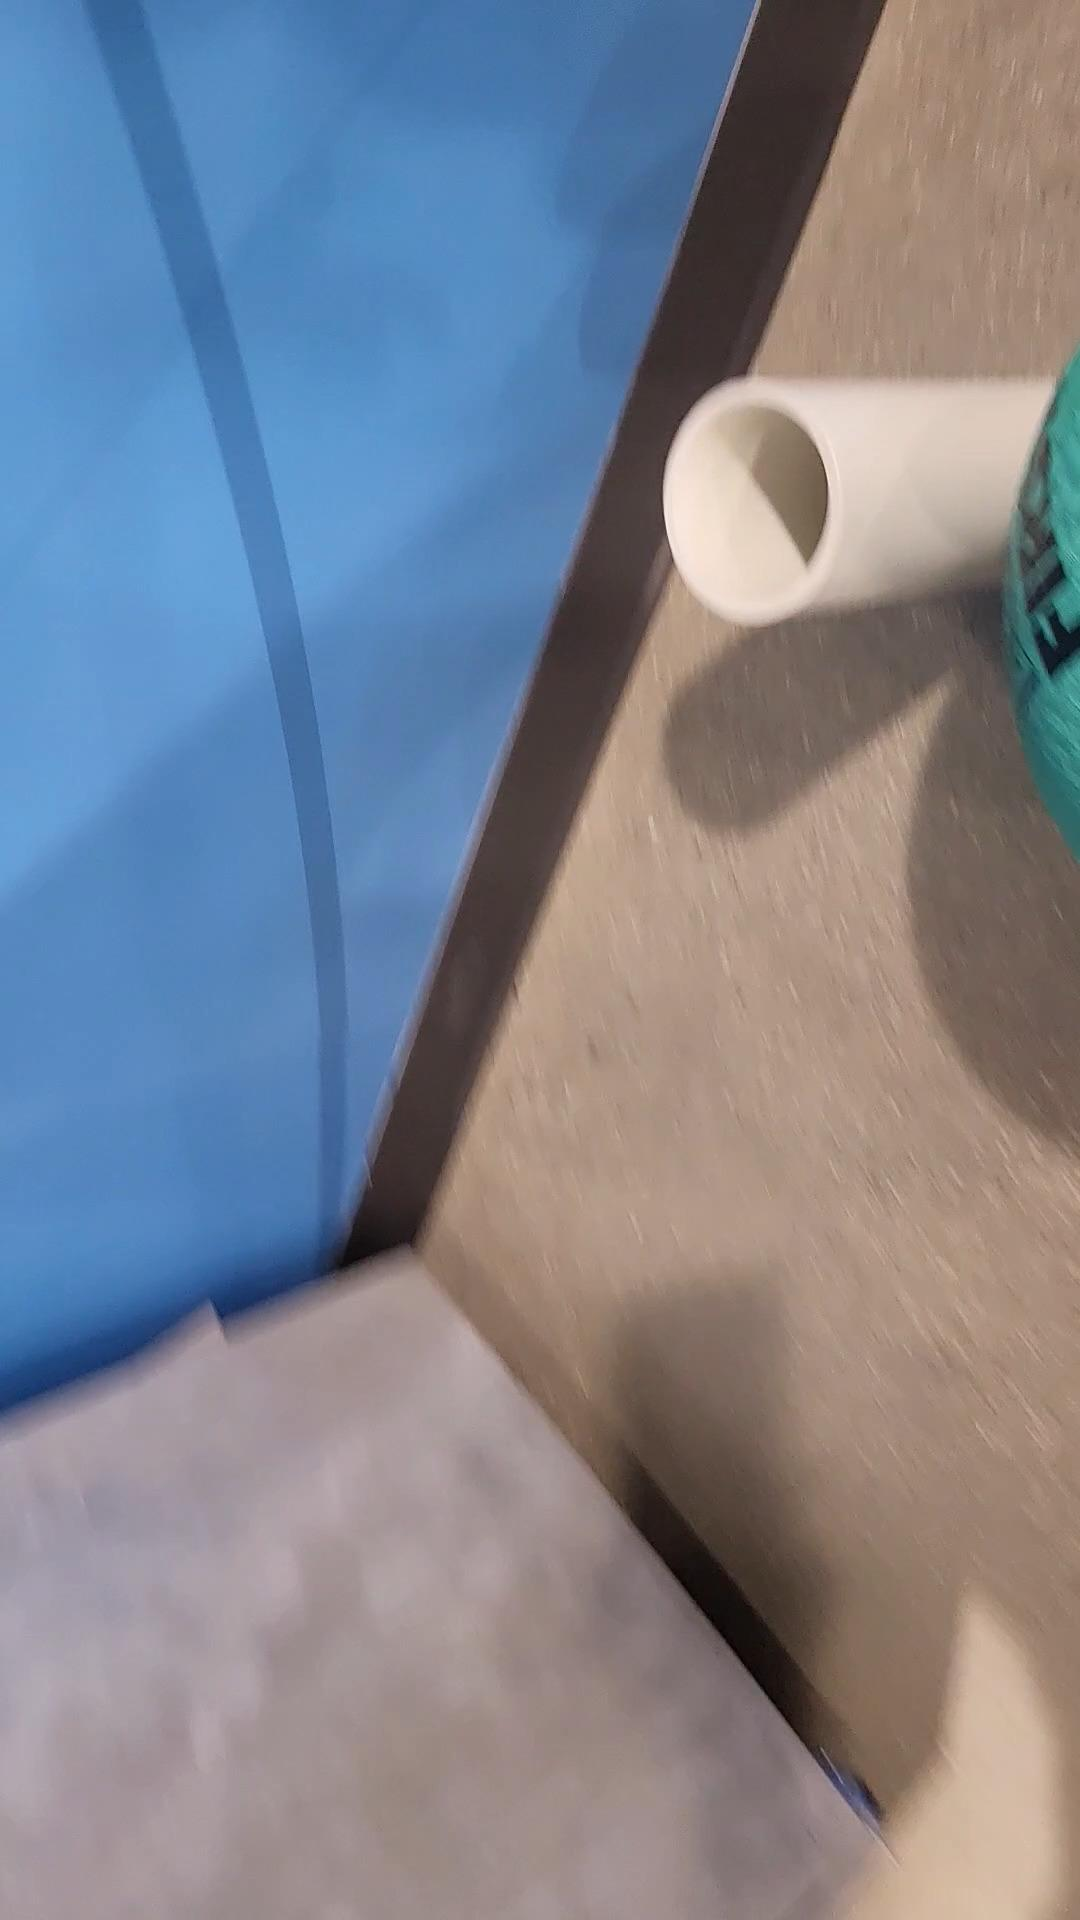algae: (1013, 330, 1079, 865)
coral: (667, 365, 1080, 625)
